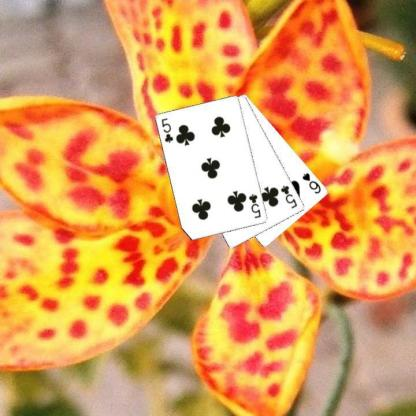5C: (278, 183, 298, 210), (246, 192, 262, 219), (159, 116, 174, 144)
6S: (300, 170, 322, 196)
